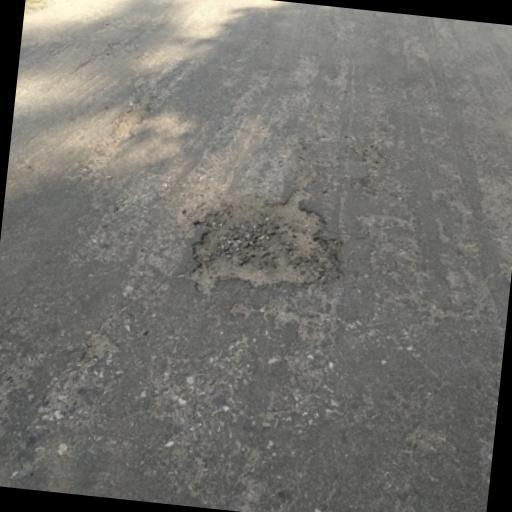pothole: (178, 179, 358, 308), (82, 328, 126, 366)
